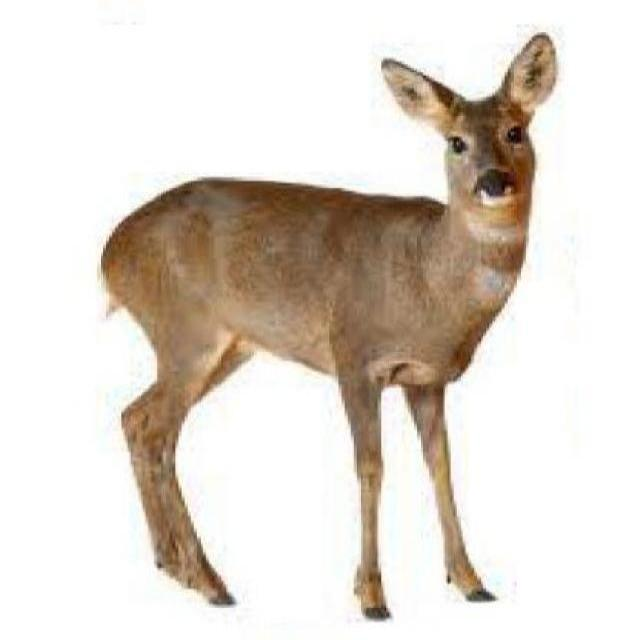deer: (96, 25, 567, 624)
